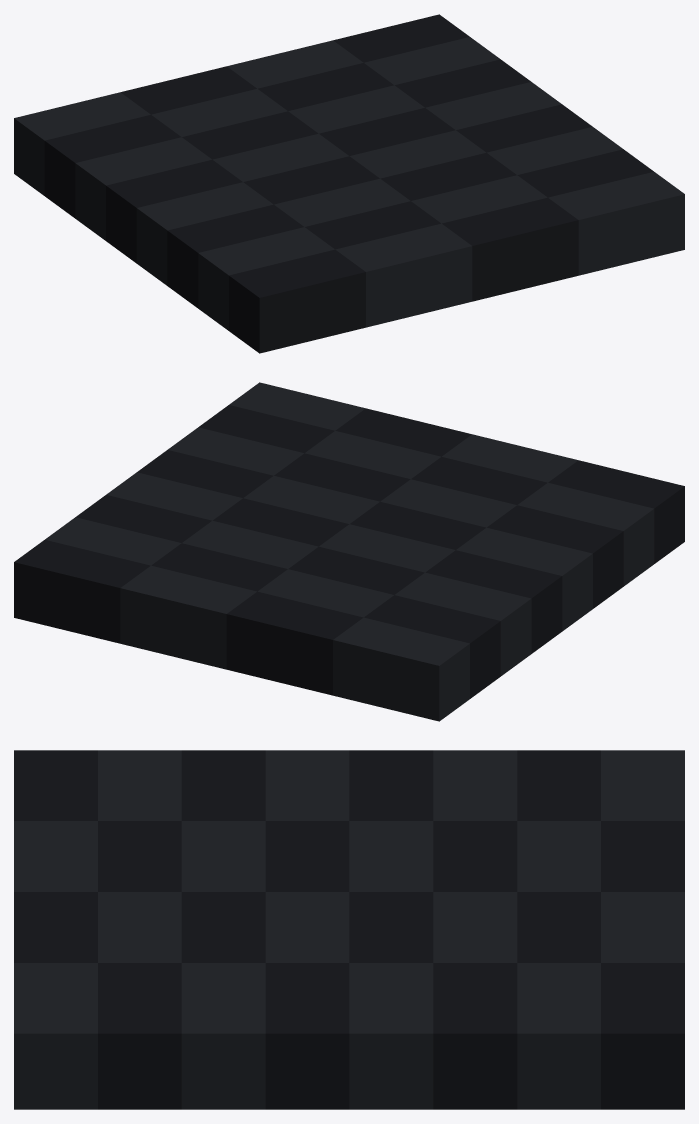
Rendered from carpet_black_model.glb.
The picture shows the model from 3 angles, top to bottom: view 1: azimuth 30°, elevation 25°; view 2: azimuth 150°, elevation 25°; view 3: azimuth 270°, elevation 25°; orthographic projection. The views are drawn at different scales.
Visible parts, largest first — view 1: Untitled; view 2: Untitled; view 3: Untitled.
Boxes of the visible parts, <box> form: Untitled: <box>14,14,684,353</box>; Untitled: <box>14,382,684,721</box>; Untitled: <box>14,750,684,1109</box>.
Bounding box in the file's own units: 0.8 × 0.1 × 0.8.
1 material, 1 textured.
